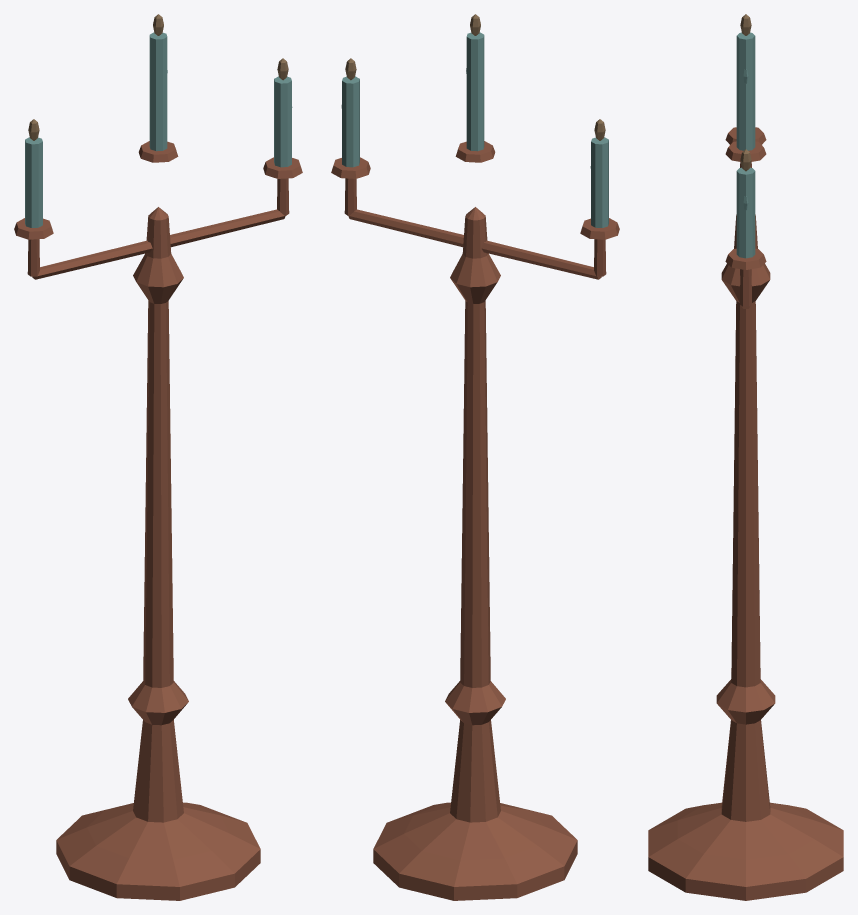
The model's file is sfesnic_inalt.glb.
3 views of the same model, side by side, from view 1: azimuth 30°, elevation 25°; view 2: azimuth 150°, elevation 25°; view 3: azimuth 270°, elevation 25° (orthographic).
Parts seen in each view (by area): view 1: Sfesnic, Flacara; view 2: Sfesnic, Flacara; view 3: Sfesnic.
Part boxes in pixels (<box>): Sfesnic: <box>14,32,302,900</box>; Flacara: <box>28,14,288,140</box>; Sfesnic: <box>331,32,619,900</box>; Flacara: <box>345,14,605,140</box>; Sfesnic: <box>648,32,843,900</box>.
Bounding box in the file's own units: 0.64 × 1.81 × 0.3804.
